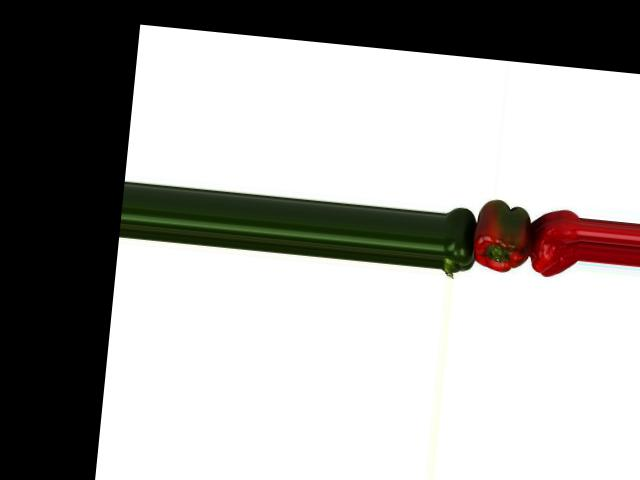bell_pepper: (524, 203, 582, 285)
